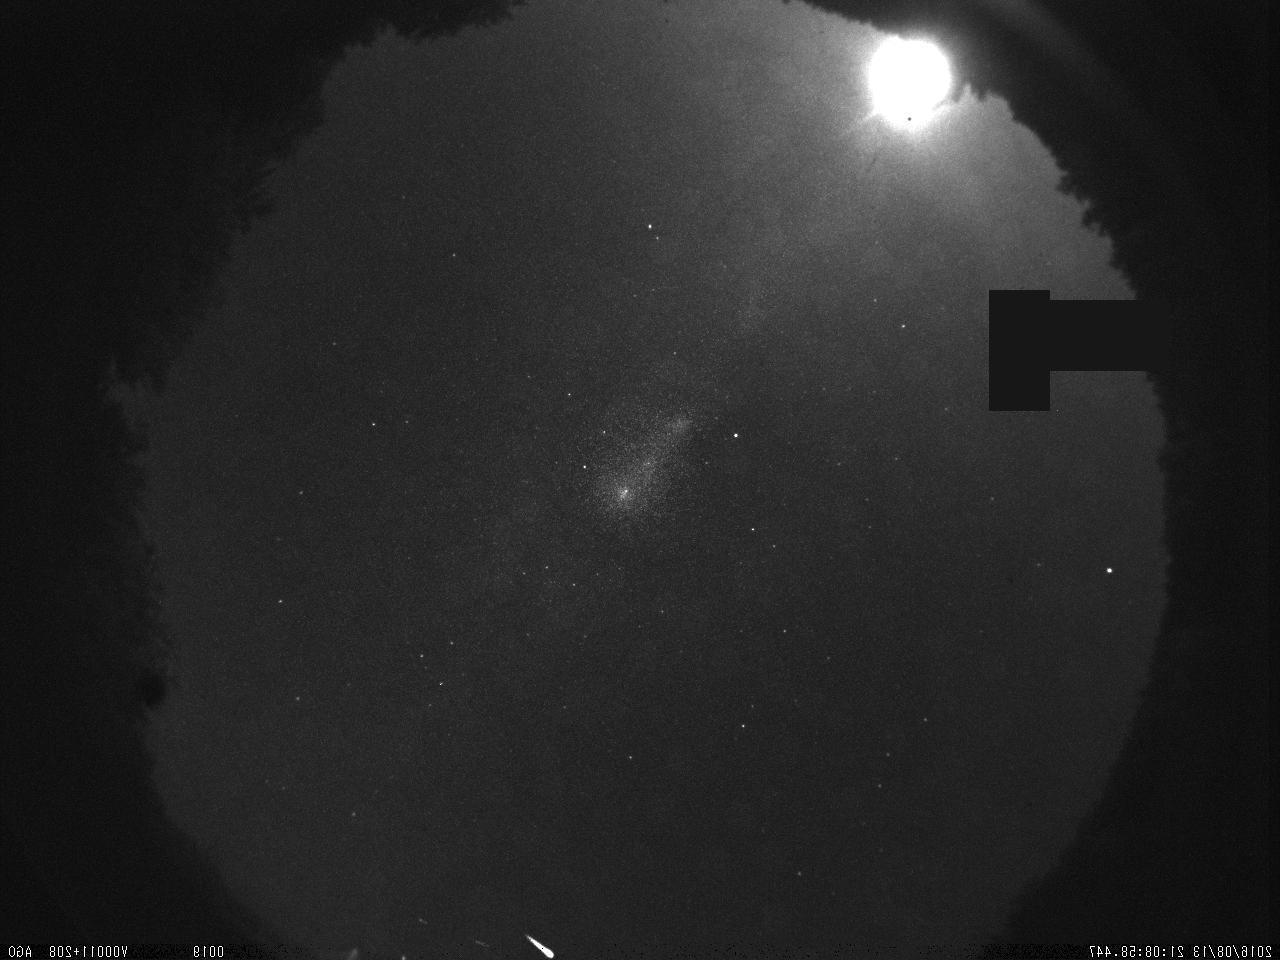meteor: (518, 927, 565, 960)
